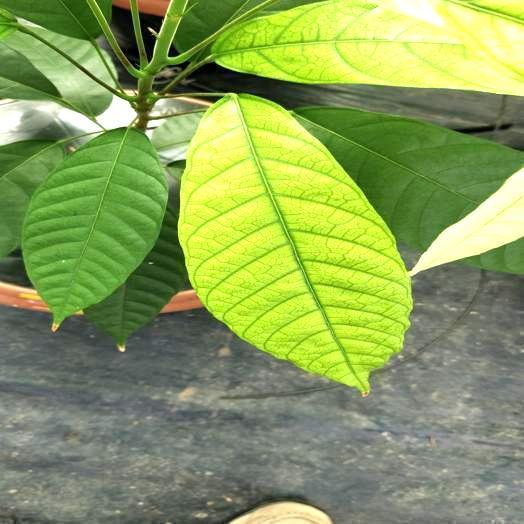Healthy Leaf: (287, 103, 523, 254), (22, 128, 166, 323), (84, 201, 185, 350), (0, 10, 117, 115), (0, 140, 64, 256)
Iron: (180, 95, 410, 392), (212, 0, 523, 95)
